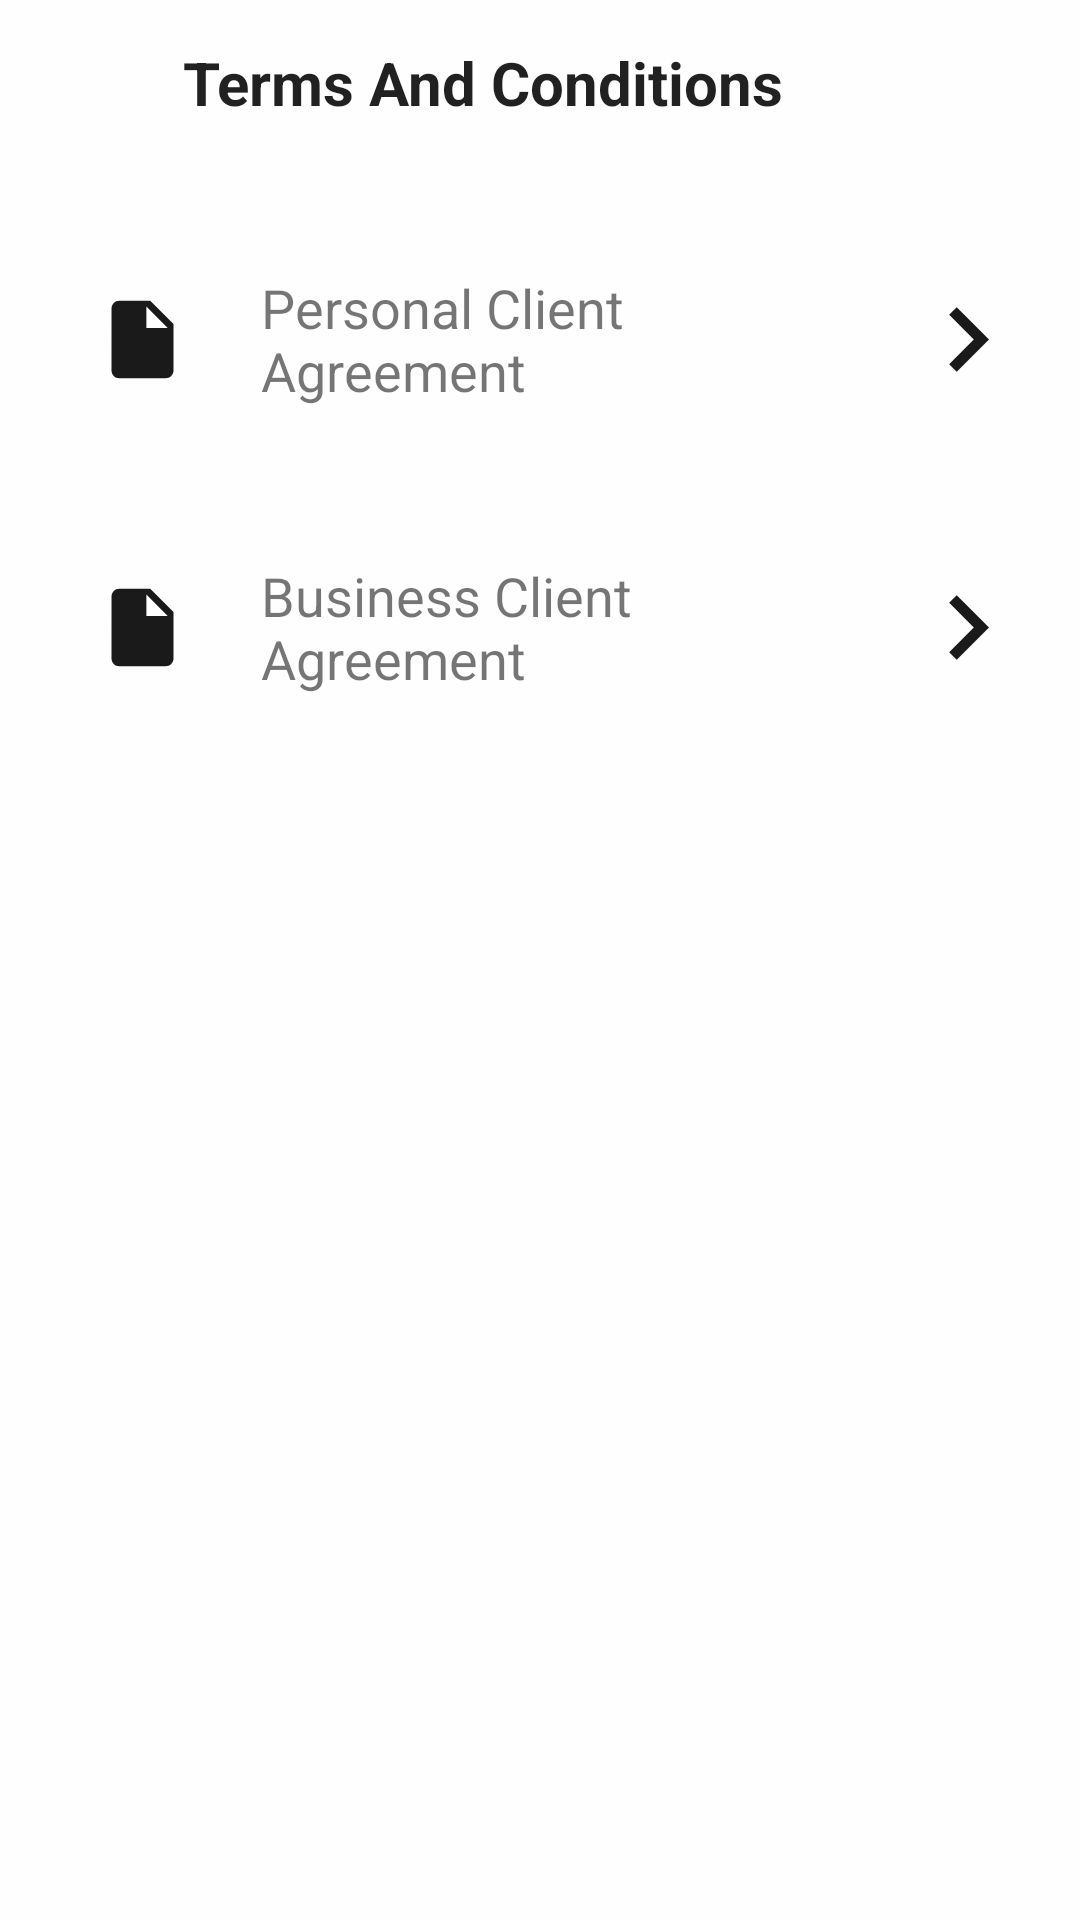

Named icons in this screenshot (1080x1920) and their centers, point (x, y):
file: point (142, 339), point (142, 627)
next: point (969, 339), point (969, 627)
